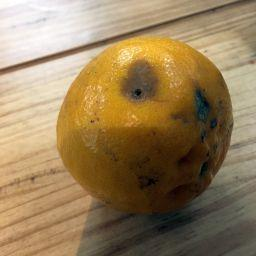Unripe: (57, 34, 233, 219)
